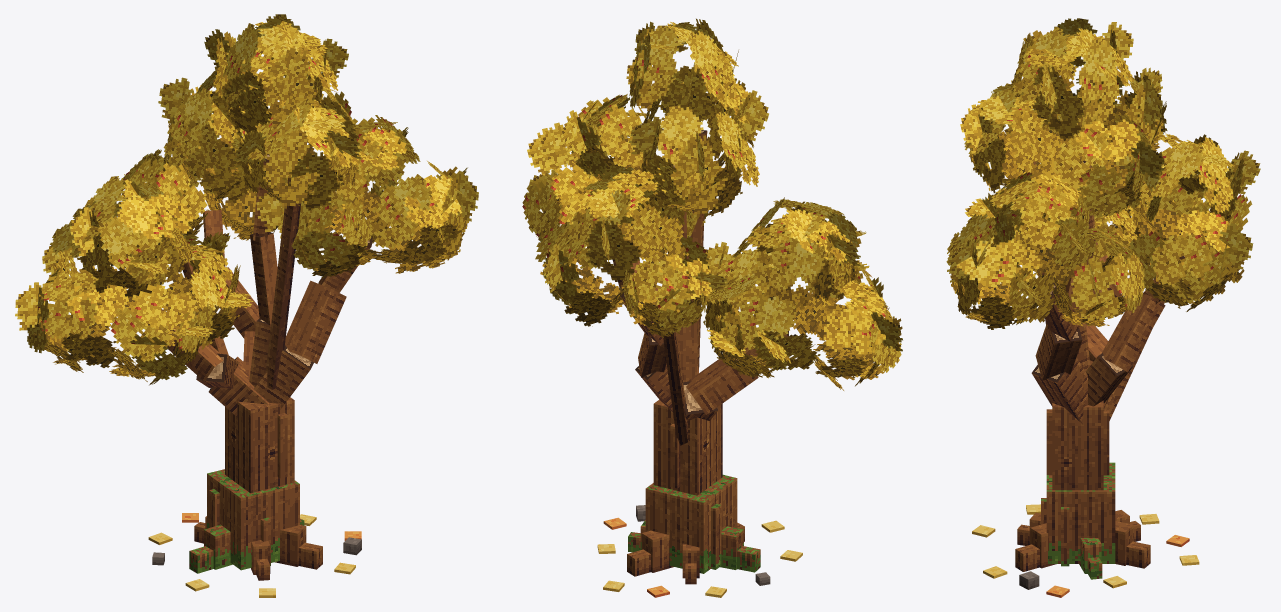
The model's file is maple_tree_2.glb.
3 views of the same model, side by side, from view 1: azimuth 30°, elevation 25°; view 2: azimuth 150°, elevation 25°; view 3: azimuth 270°, elevation 25° (orthographic).
Visible parts, largest first — view 1: maple_tree_2; view 2: maple_tree_2; view 3: maple_tree_2.
Part boxes in pixels (x1=…): maple_tree_2: x1=15, y1=14, x2=478, y2=597; maple_tree_2: x1=522, y1=18, x2=902, y2=597; maple_tree_2: x1=946, y1=18, x2=1260, y2=597.
Size of the model in its own units: 5.41 by 6.51 by 3.61.
2 materials, 2 textured.
